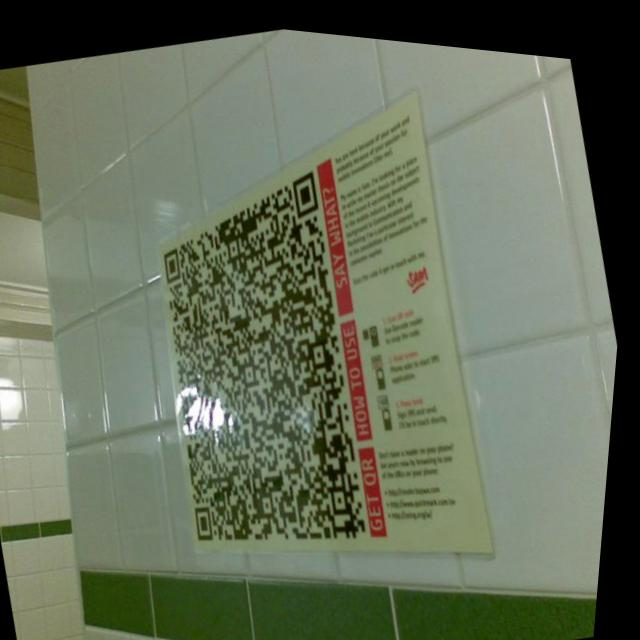qrcode: (123, 151, 404, 570)
